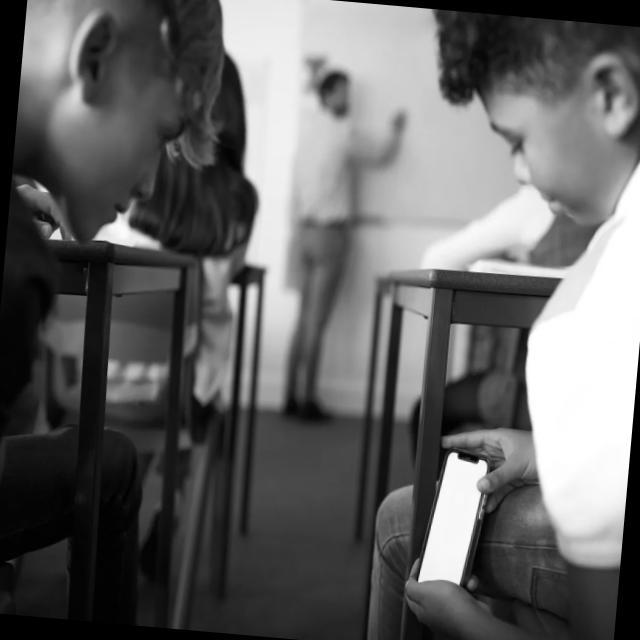phone: (416, 444, 494, 590)
